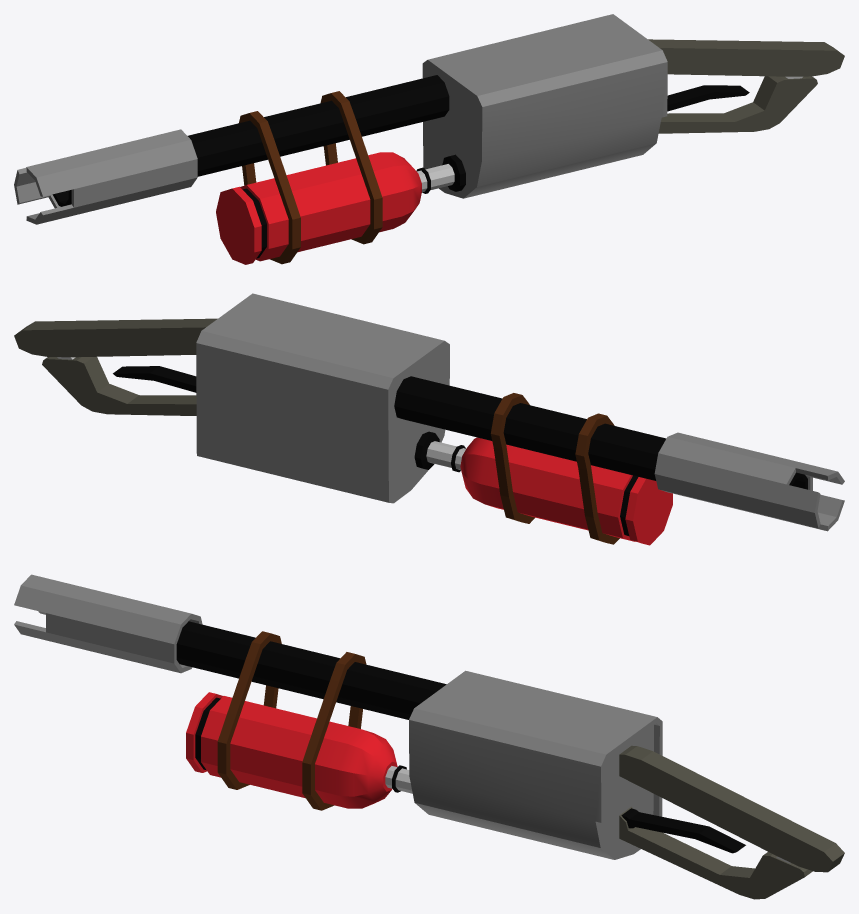
The model's file is flamethrower.fbx.
3 renders of one model, top to bottom at view 1: azimuth 30°, elevation 25°; view 2: azimuth 150°, elevation 25°; view 3: azimuth 330°, elevation 25°, orthographic. The views are drawn at different scales.
Visible parts, largest first — view 1: Cylinder; view 2: Cylinder; view 3: Cylinder.
Boxes of the visible parts, box(x1,y1,x2,y2) form: Cylinder: box(14, 14, 844, 264); Cylinder: box(14, 293, 844, 545); Cylinder: box(14, 574, 844, 899).
Size of the model in its own units: 300 by 2312 by 372.
